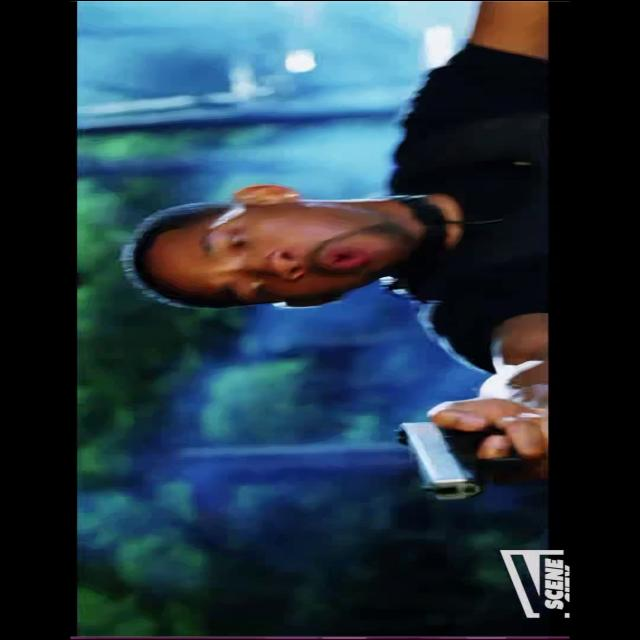weapons: (372, 397, 538, 515)
